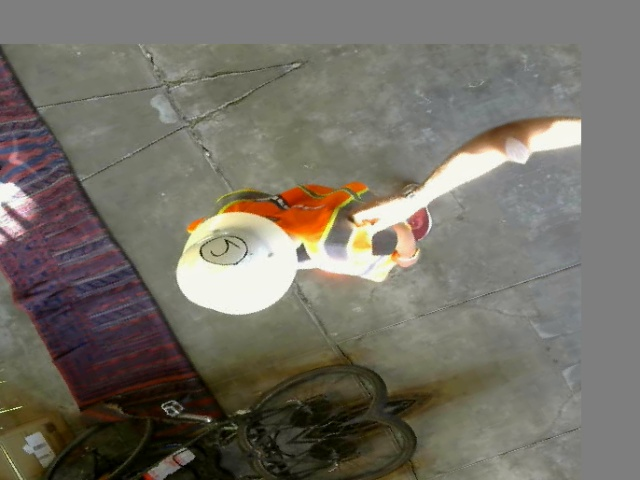two: (193, 230, 254, 272)
